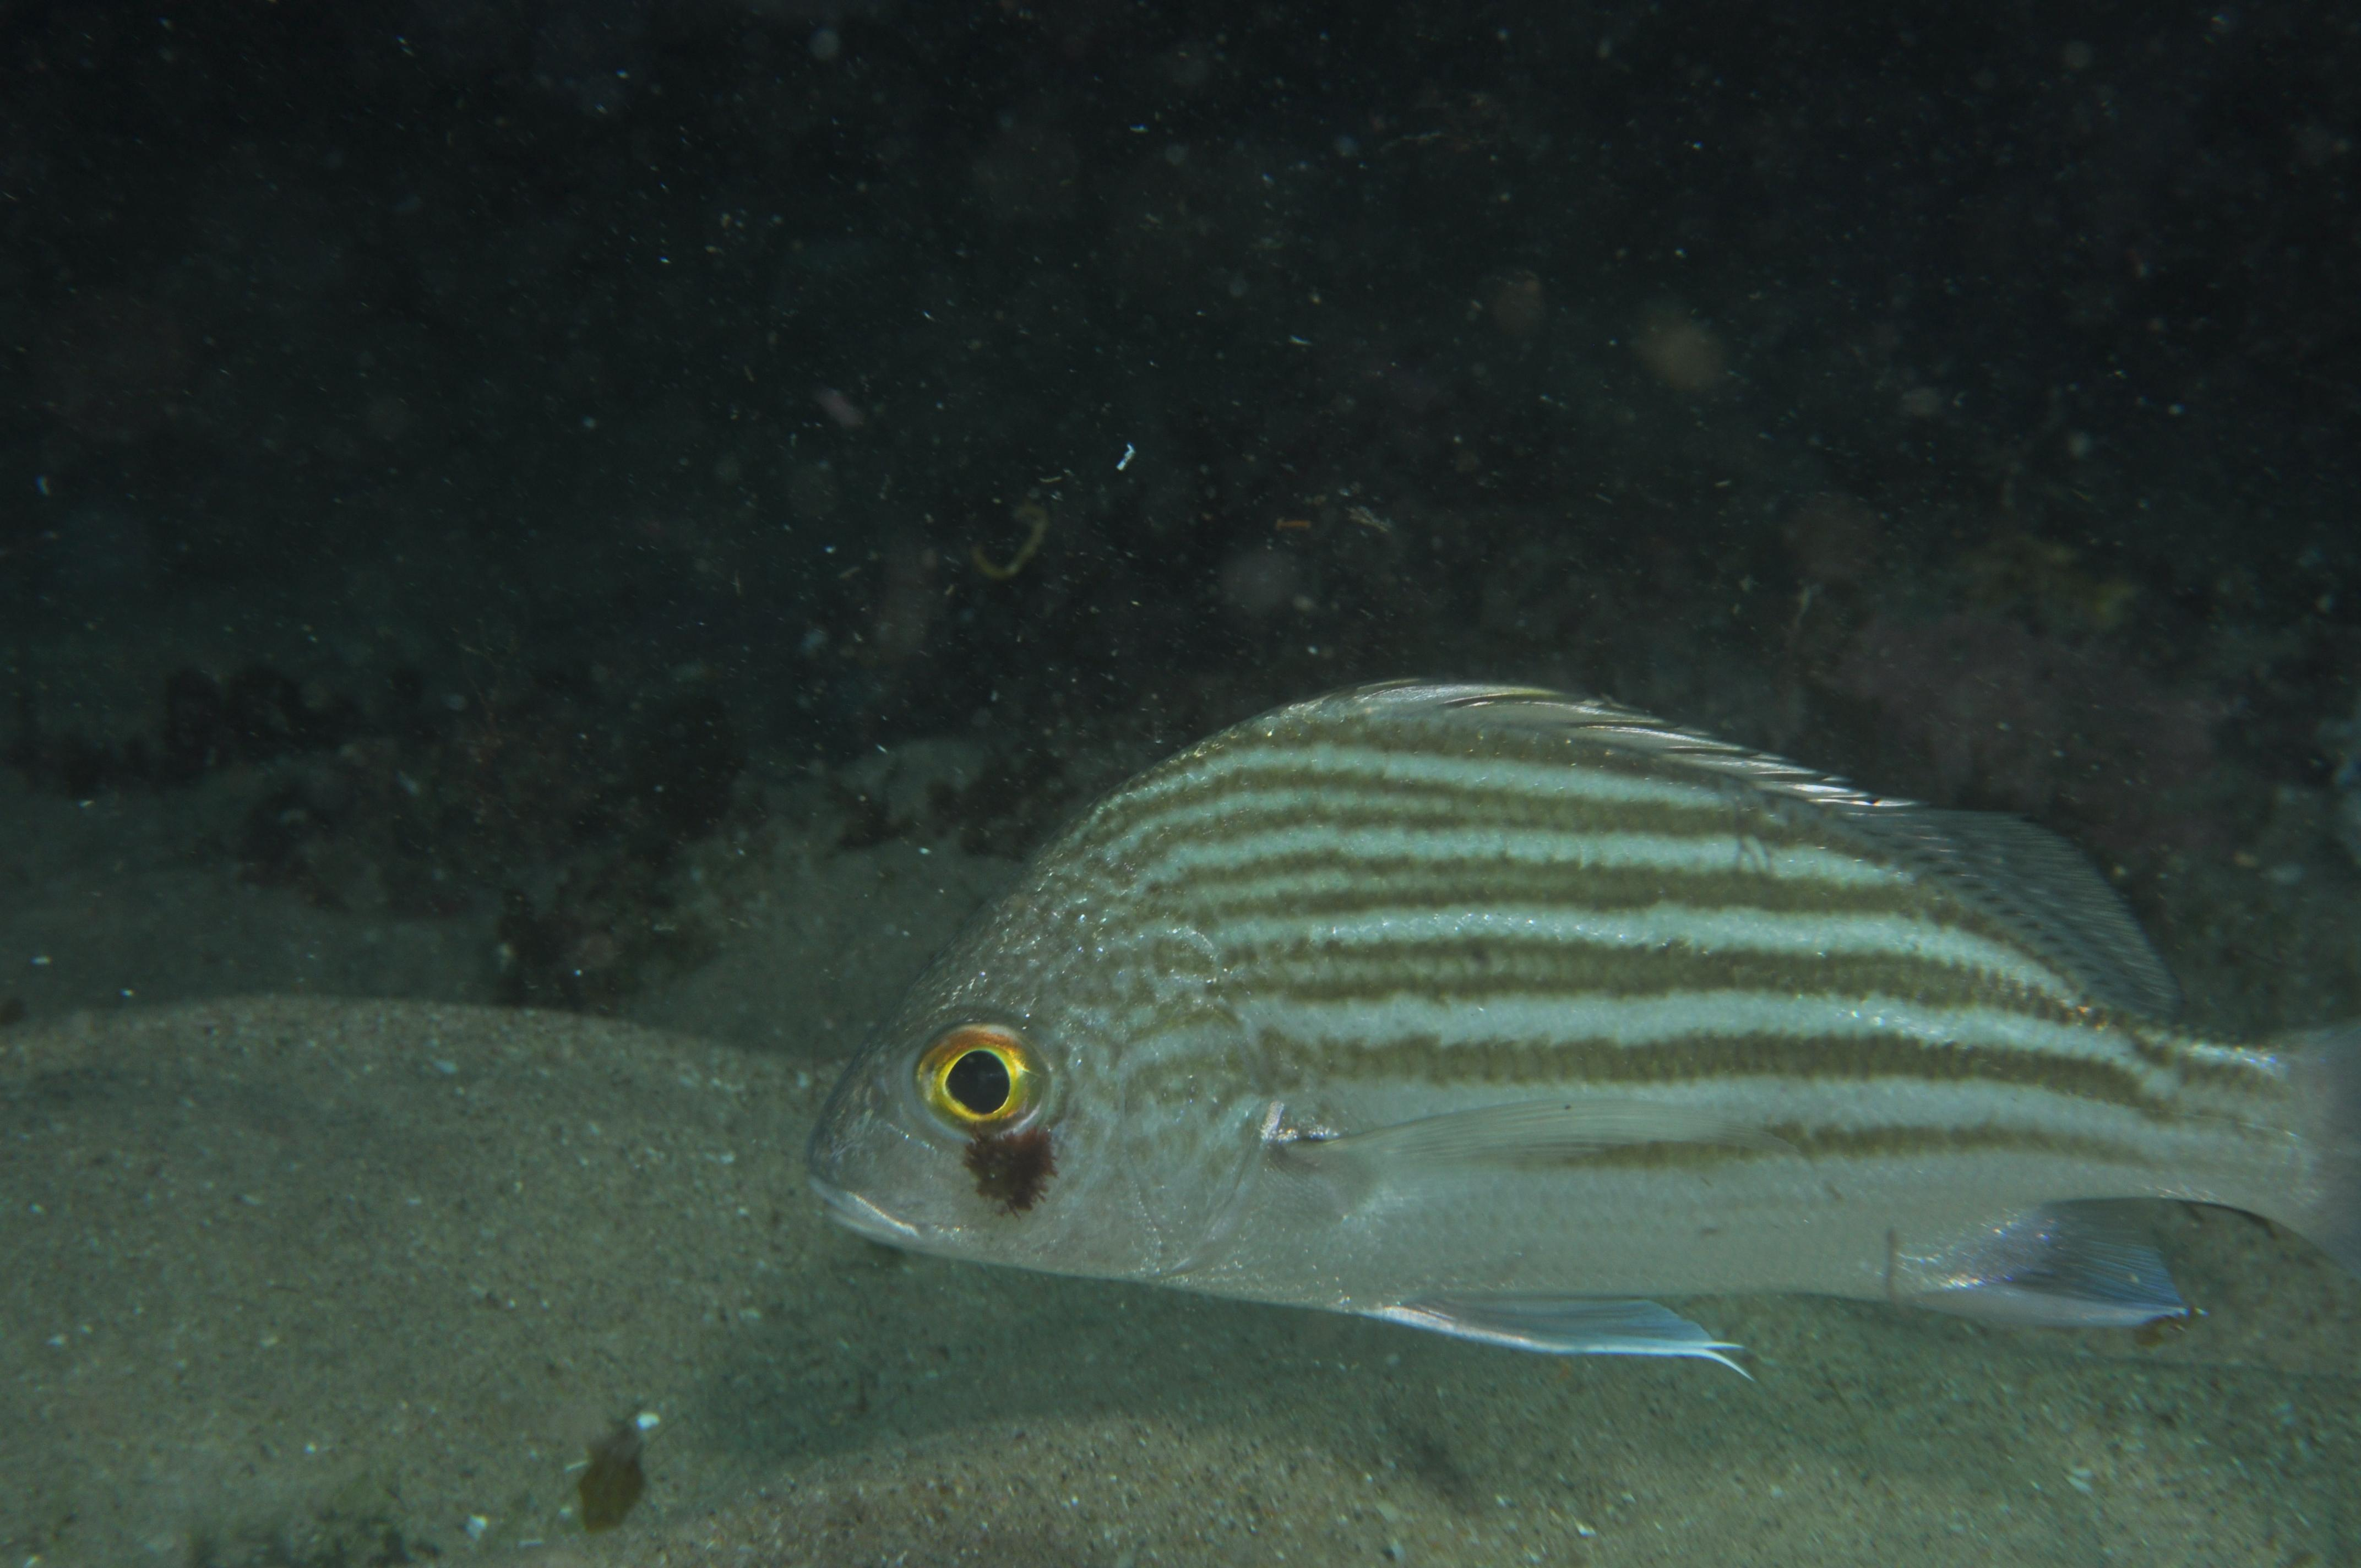Fish: (754, 656, 2361, 1400)
